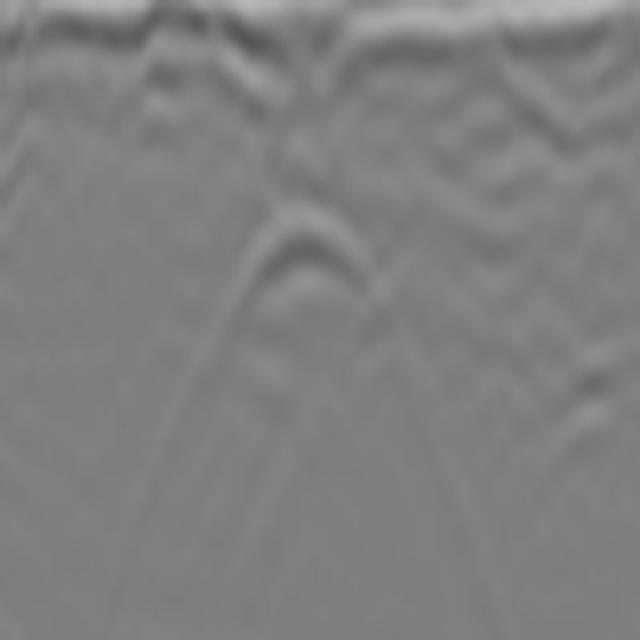hyperbola: (202, 196, 411, 413)
